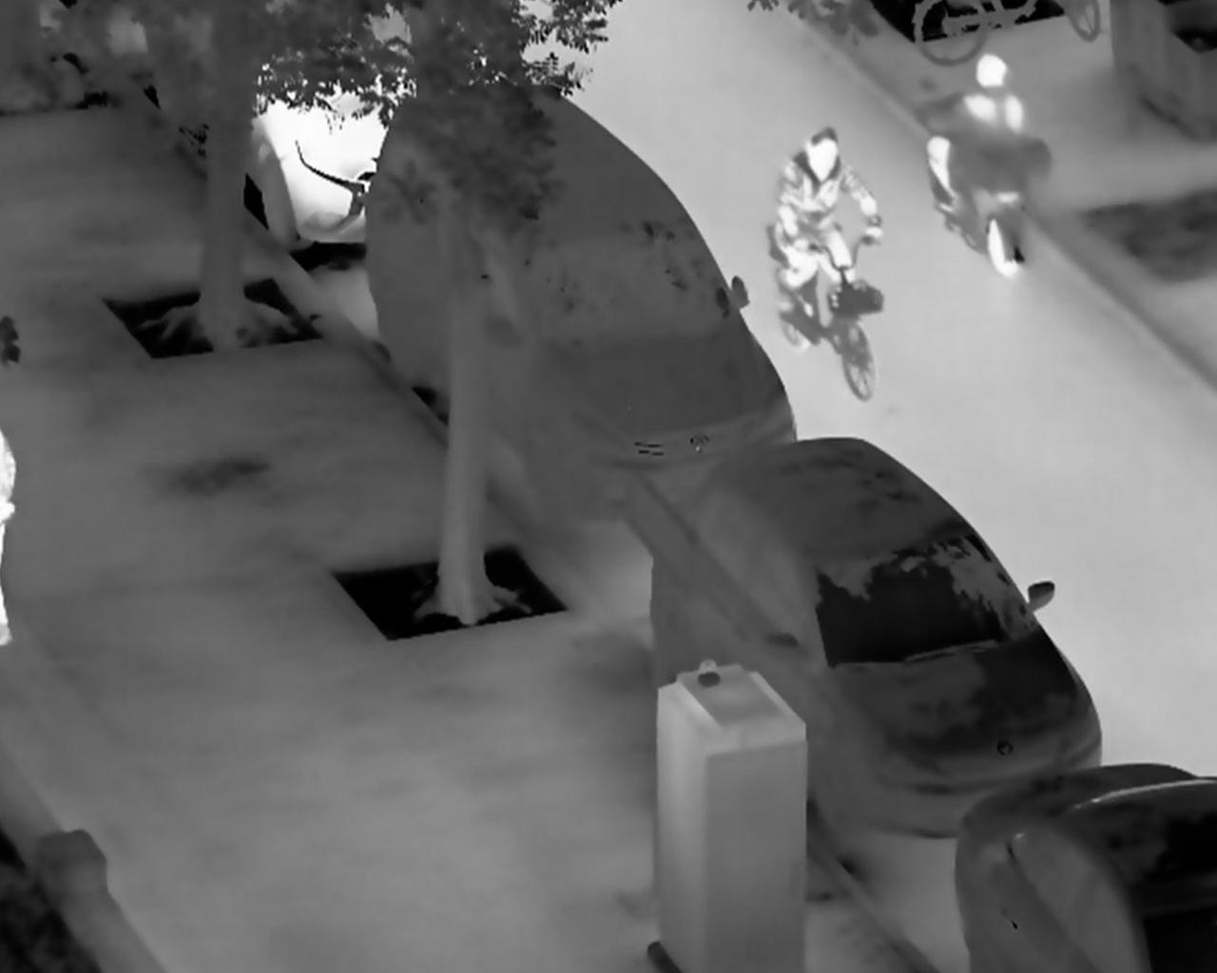person: (771, 122, 882, 318), (926, 48, 1026, 211)
